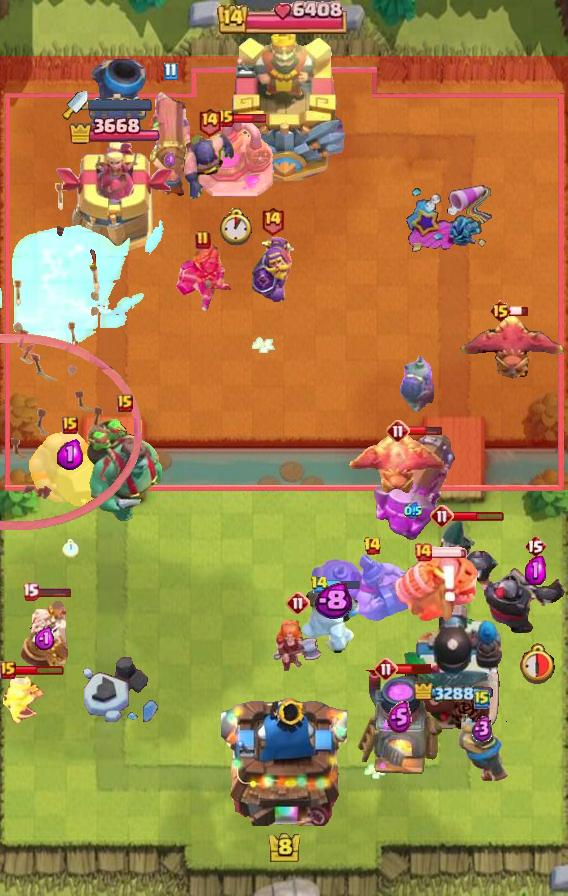archer-queen: (27, 429, 113, 509)
bar: (54, 142, 173, 256)
battle-healer: (146, 84, 194, 198)
cannon: (0, 672, 46, 724)
clock: (217, 0, 351, 34)
electro-spirit: (314, 582, 352, 620), (57, 438, 83, 469), (387, 701, 412, 733), (525, 556, 547, 585), (472, 714, 493, 742), (34, 627, 56, 651), (404, 502, 422, 520), (164, 152, 177, 168)
elixir: (517, 642, 556, 684), (217, 208, 255, 246), (61, 539, 78, 557)
elixir-collector: (18, 597, 72, 677)
emote: (451, 510, 504, 522), (11, 664, 64, 676), (395, 662, 432, 675), (430, 546, 468, 558), (408, 425, 444, 437), (36, 586, 72, 598), (327, 578, 362, 590), (233, 112, 268, 123), (509, 305, 529, 317)
firecracker: (456, 713, 509, 782)
firecracker-evolution: (250, 236, 294, 304)
furnace: (370, 428, 456, 552)
goblin-ball: (399, 347, 437, 415)
hog-rider: (272, 620, 324, 672)
hunter: (354, 670, 444, 778)
king-tower: (220, 21, 348, 181), (221, 690, 347, 826)
king-tower-bar: (88, 99, 152, 111)
lava-hound: (85, 412, 165, 524)
mega-knight: (0, 204, 164, 350)
monk: (182, 131, 236, 201)
mother-witch: (459, 313, 567, 385), (342, 429, 444, 499)
musketeer: (87, 58, 147, 122)
night-witch: (392, 554, 482, 628)
pekka: (197, 117, 275, 199)
rage: (300, 587, 366, 657)
royal-guardian: (458, 549, 568, 635)
selected: (68, 113, 160, 149), (414, 684, 494, 705)
skeleton-barrel: (0, 176, 142, 531)
tesla: (433, 519, 477, 573)
tesla-evolution: (174, 240, 232, 314)
text: (197, 107, 222, 138), (259, 205, 284, 236), (386, 419, 410, 443), (430, 504, 454, 528), (286, 591, 310, 615), (374, 657, 398, 681), (489, 299, 512, 323), (524, 534, 546, 558), (413, 542, 433, 562), (363, 536, 382, 556), (310, 575, 329, 594), (21, 582, 39, 601), (195, 230, 211, 250), (474, 689, 490, 709), (218, 109, 234, 127), (117, 394, 133, 412), (62, 416, 78, 434), (0, 661, 16, 679), (163, 63, 178, 81)
tower-bar: (403, 601, 503, 731)
wizard: (309, 550, 435, 624)
